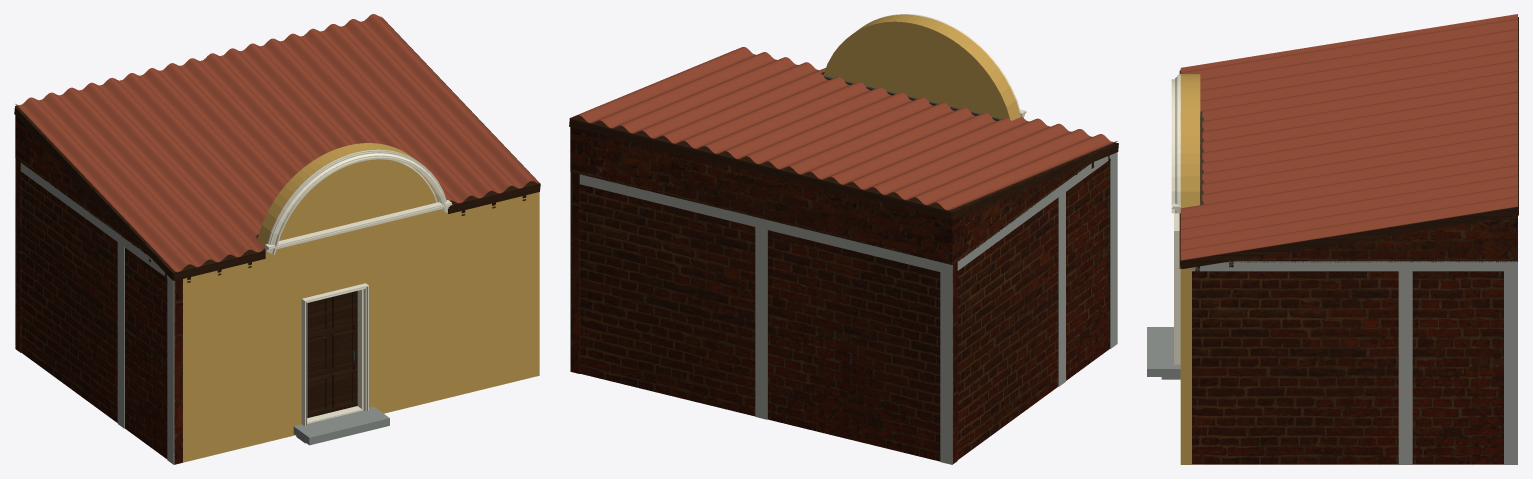
The model's file is building.glb.
3 renders of one model, left to right at view 1: azimuth 30°, elevation 25°; view 2: azimuth 150°, elevation 25°; view 3: azimuth 270°, elevation 25°, orthographic. The views are drawn at different scales.
Parts seen in each view (by area): view 1: house:0/edge0/z0/house:0/edge0/z0/wall_0_0, house:0/edge3/z0/house:0/edge3/z0/wall_0_0, crown/fronton/crown_body#0001, roof_assembly/cubierta/roof_gable_closure#0005, crown/fronton/crown_moulding#0001, site/entrance/0/entrance_step#0002, roof_assembly/cubierta/roof_fascia#0002, crown/fronton/crown_base_cornice#0001, house:0/edge3/z0/house:0/edge3/z0/column_2_0, house:0/edge3/z0/house:0/edge3/z0/column_1_0, house:0/edge3/z0/house:0/edge3/z0/beam_0_0, house:0/edge2/z0/house:0/edge2/z0/wall_0_0 (+13 smaller); view 2: house:0/edge2/z0/house:0/edge2/z0/wall_0_0, house:0/edge3/z0/house:0/edge3/z0/wall_0_0, roof_assembly/cubierta/roof_gable_closure#0004, crown/fronton/crown_body#0001, house:0/edge2/z0/house:0/edge2/z0/beam_0_0, roof_assembly/cubierta/roof_fascia#0001, roof_assembly/cubierta/roof_gable_closure#0005, house:0/edge2/z0/house:0/edge2/z0/column_2_0, house:0/edge2/z0/house:0/edge2/z0/column_1_0, house:0/edge1/z0/house:0/edge1/z0/wall_0_0, roof_assembly/cubierta/roof_fascia#0002, house:0/edge3/z0/house:0/edge3/z0/beam_0_0 (+3 smaller); view 3: house:0/edge1/z0/house:0/edge1/z0/wall_0_0, roof_assembly/cubierta/roof_gable_closure#0003, house:0/edge1/z0/house:0/edge1/z0/beam_0_0, roof_assembly/cubierta/roof_fascia#0005, house:0/edge1/z0/house:0/edge1/z0/column_2_0, house:0/edge1/z0/house:0/edge1/z0/column_1_0, house:0/edge0/z0/house:0/edge0/z0/wall_0_0, crown/fronton/crown_body#0001, site/entrance/0/entrance_step#0002, crown/fronton/crown_moulding#0001, house:0/edge0/z0/opening_u2.80_v0.12/door_moulding#0028, crown/fronton/crown_rim#0001.
Part boxes in pixels (x1,y1,x2,y2): house:0/edge0/z0/house:0/edge0/z0/wall_0_0: [183, 192, 539, 462]; house:0/edge3/z0/house:0/edge3/z0/wall_0_0: [21, 172, 182, 464]; crown/fronton/crown_body#0001: [257, 143, 438, 246]; roof_assembly/cubierta/roof_gable_closure#0005: [19, 120, 148, 255]; crown/fronton/crown_moulding#0001: [266, 149, 448, 254]; site/entrance/0/entrance_step#0002: [293, 406, 389, 445]; roof_assembly/cubierta/roof_fascia#0002: [14, 107, 174, 280]; crown/fronton/crown_base_cornice#0001: [265, 200, 452, 251]; house:0/edge3/z0/house:0/edge3/z0/column_2_0: [117, 242, 124, 428]; house:0/edge3/z0/house:0/edge3/z0/column_1_0: [167, 278, 174, 464]; house:0/edge3/z0/house:0/edge3/z0/beam_0_0: [20, 163, 174, 282]; house:0/edge2/z0/house:0/edge2/z0/wall_0_0: [15, 159, 21, 352]; house:0/edge2/z0/house:0/edge2/z0/wall_0_0: [580, 184, 957, 464]; house:0/edge3/z0/house:0/edge3/z0/wall_0_0: [957, 161, 1109, 459]; roof_assembly/cubierta/roof_gable_closure#0004: [578, 129, 956, 264]; crown/fronton/crown_body#0001: [823, 15, 1019, 120]; house:0/edge2/z0/house:0/edge2/z0/beam_0_0: [579, 174, 952, 274]; roof_assembly/cubierta/roof_fascia#0001: [569, 118, 952, 219]; roof_assembly/cubierta/roof_gable_closure#0005: [956, 163, 1091, 262]; house:0/edge2/z0/house:0/edge2/z0/column_2_0: [755, 227, 767, 419]; house:0/edge2/z0/house:0/edge2/z0/column_1_0: [940, 272, 952, 464]; house:0/edge1/z0/house:0/edge1/z0/wall_0_0: [571, 172, 580, 373]; roof_assembly/cubierta/roof_fascia#0002: [952, 143, 1118, 219]; house:0/edge3/z0/house:0/edge3/z0/beam_0_0: [957, 152, 1117, 270]; house:0/edge1/z0/house:0/edge1/z0/wall_0_0: [1192, 271, 1503, 464]; roof_assembly/cubierta/roof_gable_closure#0003: [1227, 215, 1517, 262]; house:0/edge1/z0/house:0/edge1/z0/beam_0_0: [1192, 261, 1517, 271]; roof_assembly/cubierta/roof_fascia#0005: [1180, 207, 1518, 268]; house:0/edge1/z0/house:0/edge1/z0/column_2_0: [1398, 271, 1412, 464]; house:0/edge1/z0/house:0/edge1/z0/column_1_0: [1504, 271, 1517, 464]; house:0/edge0/z0/house:0/edge0/z0/wall_0_0: [1180, 266, 1191, 464]; crown/fronton/crown_body#0001: [1184, 74, 1200, 207]; site/entrance/0/entrance_step#0002: [1147, 327, 1180, 376]; crown/fronton/crown_moulding#0001: [1171, 74, 1180, 213]; house:0/edge0/z0/opening_u2.80_v0.12/door_moulding#0028: [1174, 213, 1180, 364]; crown/fronton/crown_rim#0001: [1180, 74, 1183, 208].
Bounding box in the file's own units: 8.03 × 5.64 × 6.62.
9 materials, 2 textured.
